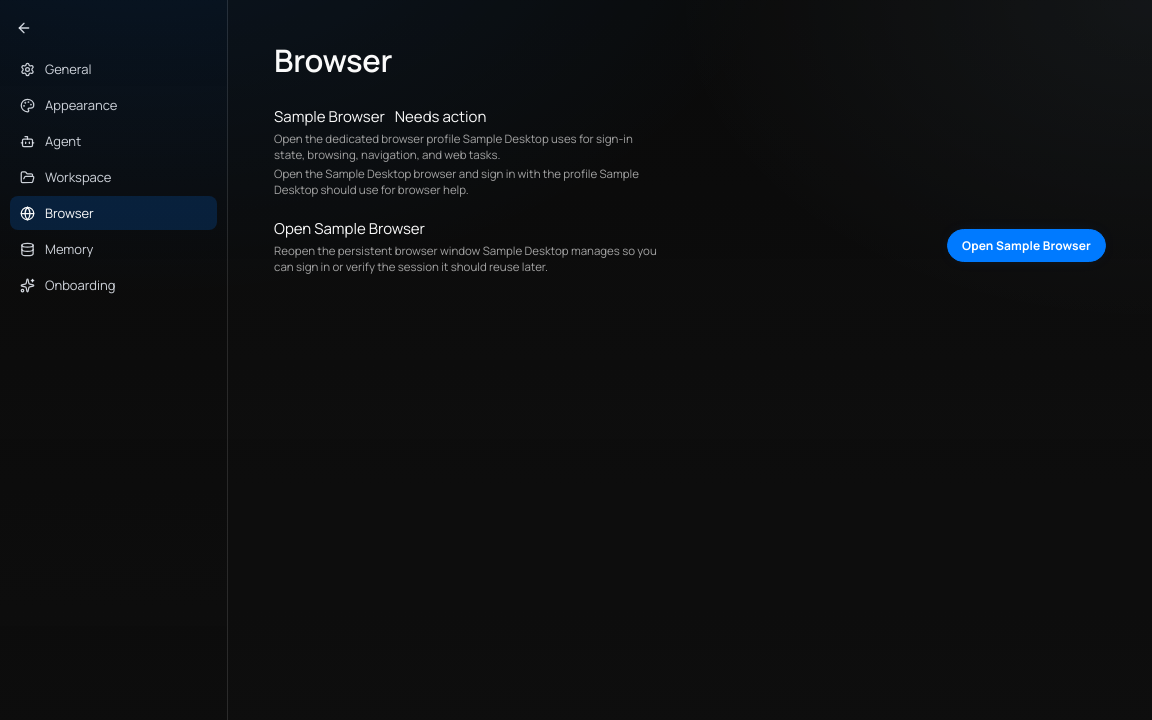
Test: SettingsSection › browser tab shows returned failure reason and remediation inline
Click the button "Open Sample Browser": (1026, 246) x1=947 y1=229 x2=1106 y2=262
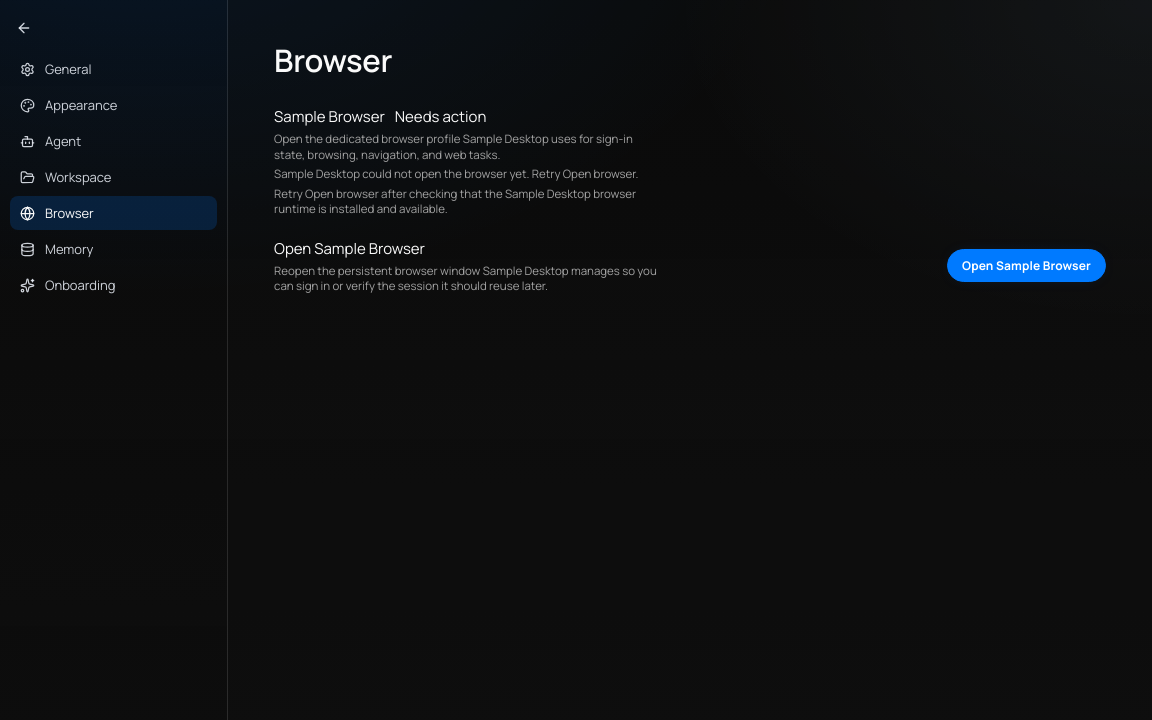
Result: the text "Sample Desktop could not open the browser yet. Retry Open browser." is shown at x1=274 y1=166 x2=664 y2=182
Result: the text "Retry Open browser after checking that the Sample Desktop browser runtime is installed and available." is shown at x1=274 y1=186 x2=636 y2=216
